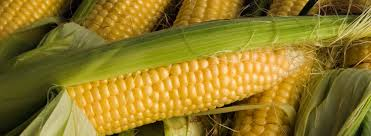milho: (33, 20, 320, 127)
